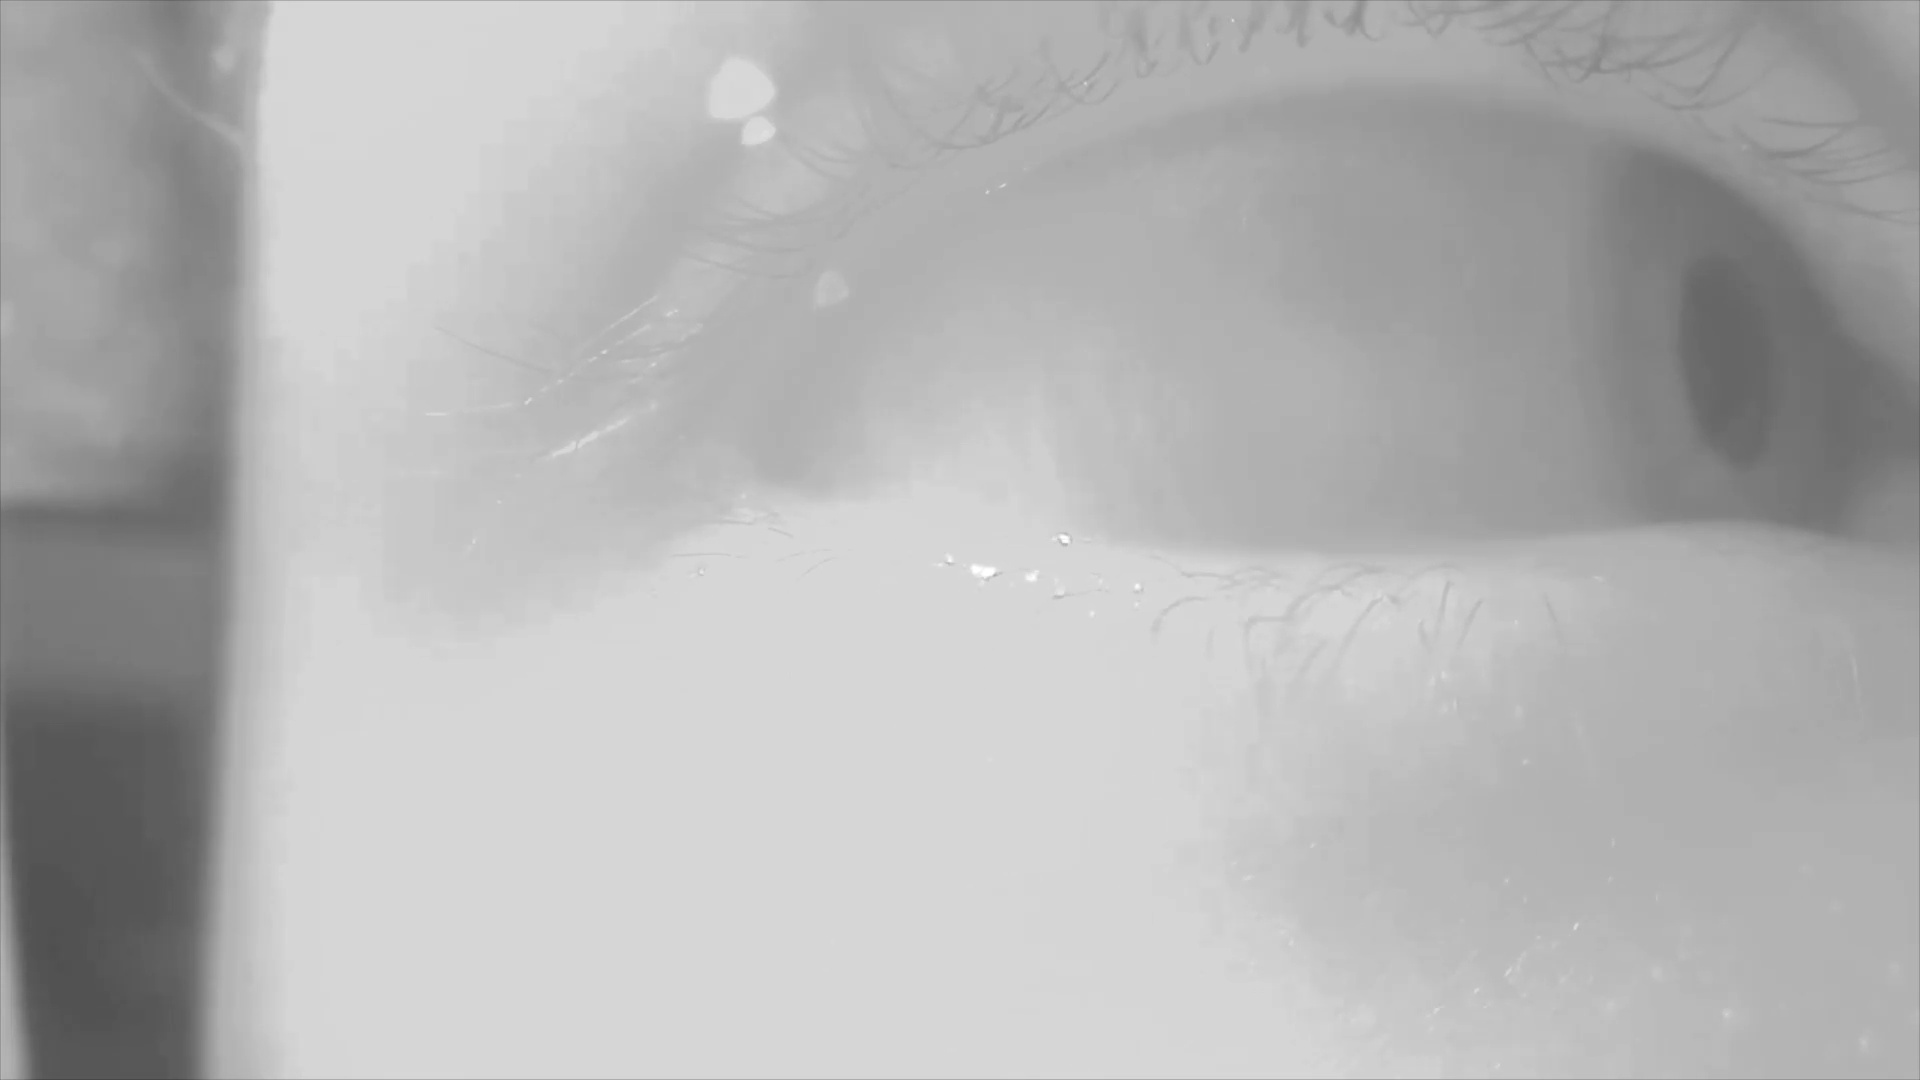pupil: (1674, 250, 1780, 478)
